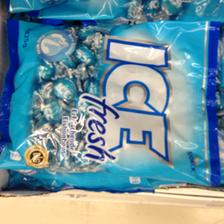Suessigkeit: (5, 17, 215, 185)
